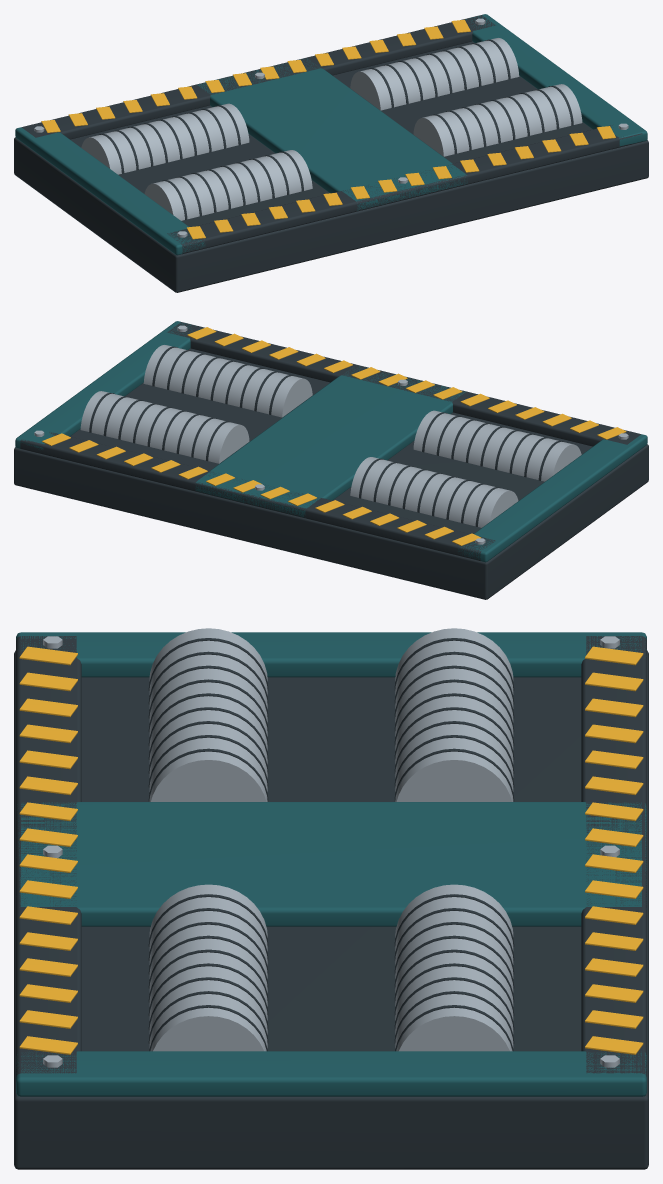
File: 05_dyno.glb
3 views of the same model, one above another, from view 1: azimuth 30°, elevation 25°; view 2: azimuth 150°, elevation 25°; view 3: azimuth 270°, elevation 25° (orthographic). The views are drawn at different scales.
Parts seen in each view (by area): view 1: 05_dyno__frame, 05_dyno__roller_1_0, 05_dyno__roller_1_1, 05_dyno__roller_-1_1, 05_dyno__roller_-1_0; view 2: 05_dyno__frame, 05_dyno__roller_1_1, 05_dyno__roller_1_0, 05_dyno__roller_-1_0, 05_dyno__roller_-1_1; view 3: 05_dyno__frame, 05_dyno__roller_-1_0, 05_dyno__roller_-1_1, 05_dyno__roller_1_0, 05_dyno__roller_1_1.
Part boxes in pixels (box(x1,y1,x2,y2)): 05_dyno__frame: box(14, 14, 648, 292); 05_dyno__roller_1_0: box(413, 84, 582, 156); 05_dyno__roller_1_1: box(350, 38, 519, 110); 05_dyno__roller_-1_1: box(81, 103, 249, 174); 05_dyno__roller_-1_0: box(144, 150, 312, 220); 05_dyno__frame: box(14, 321, 648, 599); 05_dyno__roller_1_1: box(80, 391, 249, 463); 05_dyno__roller_1_0: box(143, 345, 312, 417); 05_dyno__roller_-1_0: box(413, 410, 581, 481); 05_dyno__roller_-1_1: box(350, 457, 518, 527); 05_dyno__frame: box(14, 632, 648, 1169); 05_dyno__roller_-1_0: box(148, 628, 268, 801); 05_dyno__roller_-1_1: box(394, 628, 514, 801); 05_dyno__roller_1_0: box(148, 884, 268, 1051); 05_dyno__roller_1_1: box(394, 884, 514, 1051).
Bounding box in the file's own units: 2.6 × 0.337 × 1.55.
